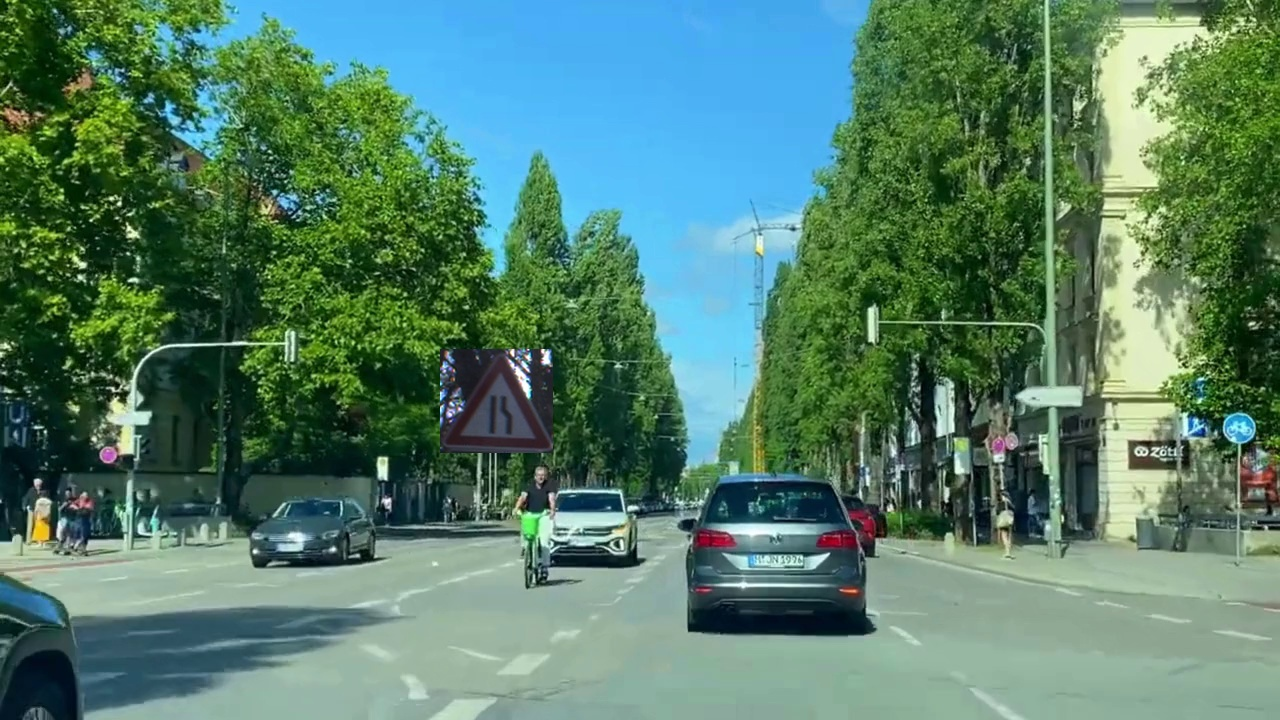Road narrows: (440, 349, 553, 453)
